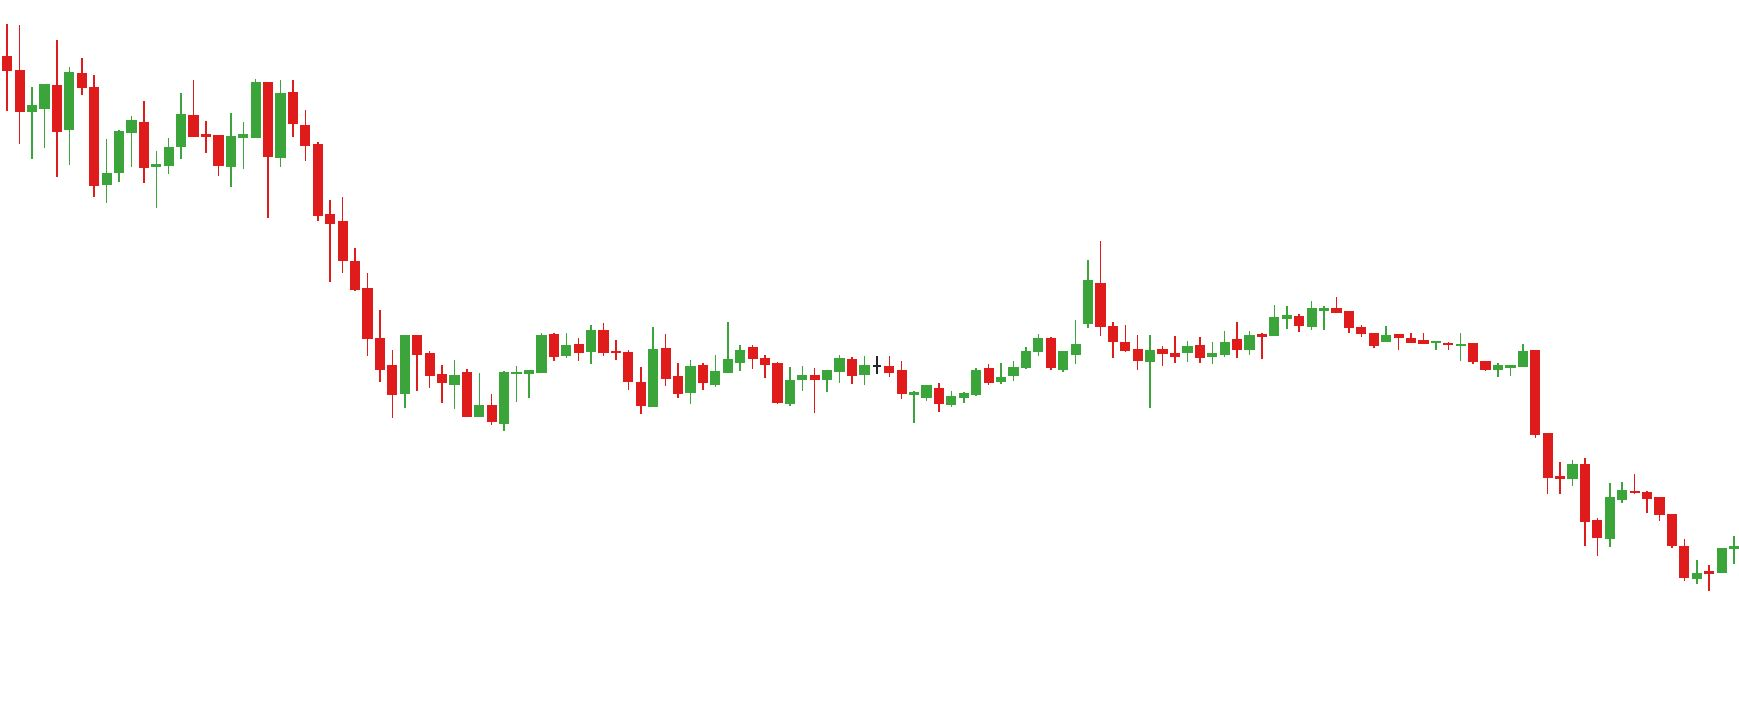buy: (809, 363, 918, 425)
sell: (185, 77, 275, 175)
